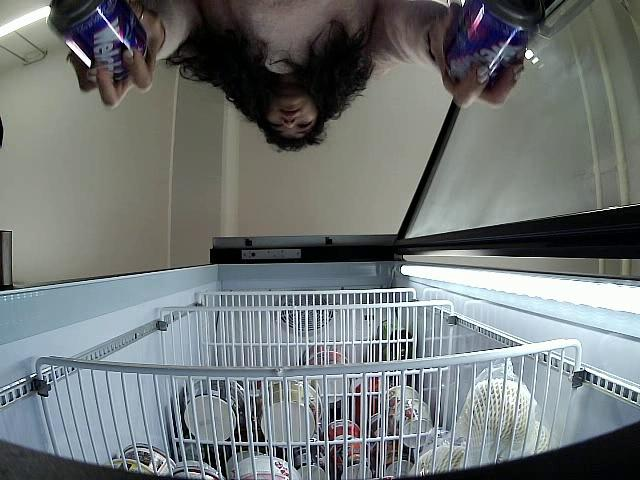00_hand: (431, 0, 525, 107), (61, 45, 157, 113)
14_welchsGrape: (445, 0, 542, 88), (48, 0, 147, 79)
